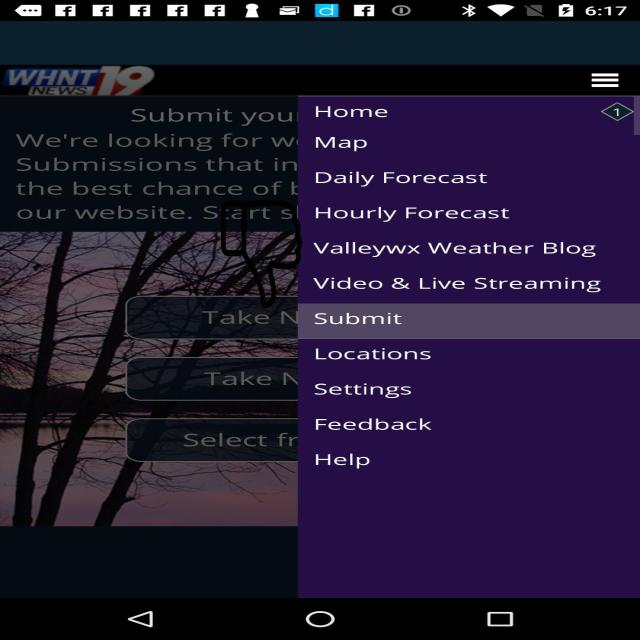obstruction: (220, 200, 303, 308)
